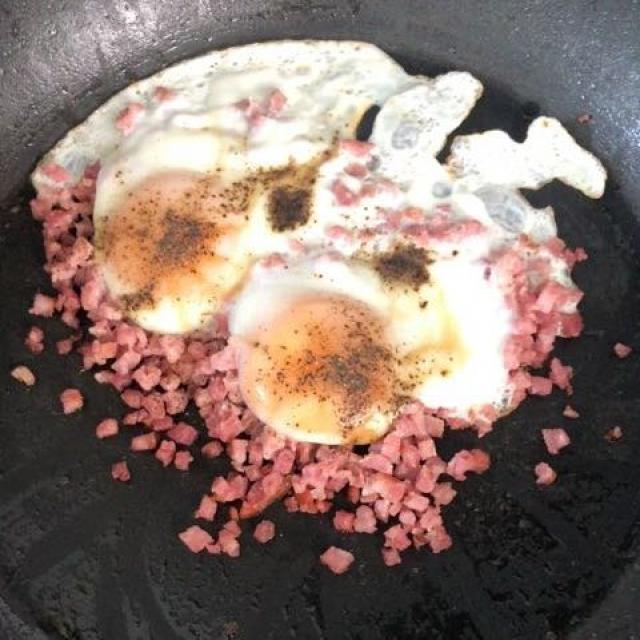bacon: (28, 132, 602, 567)
egg: (31, 14, 596, 455)
